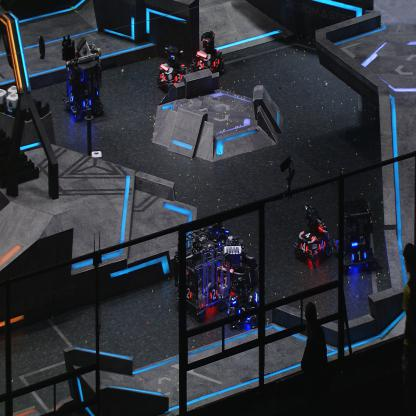car: (174, 227, 229, 318), (336, 197, 378, 274), (62, 43, 104, 119), (290, 200, 334, 267), (218, 235, 260, 304), (190, 29, 226, 80), (227, 275, 260, 330), (156, 43, 190, 91)
